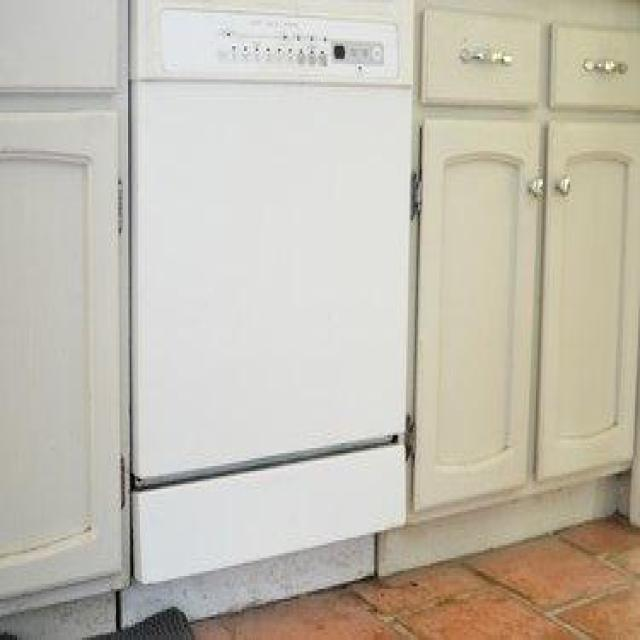dishwasher: (122, 0, 416, 631)
